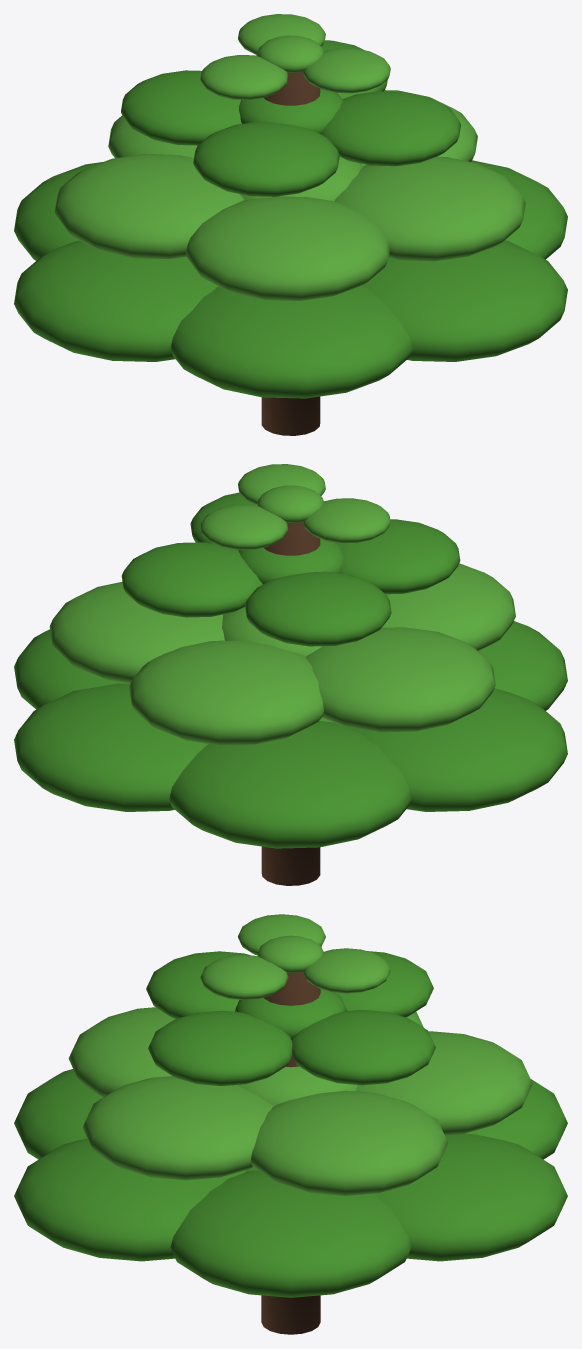
File: schoolyard_tropical_tree.glb
3 renders of one model, top to bottom at view 1: azimuth 30°, elevation 25°; view 2: azimuth 150°, elevation 25°; view 3: azimuth 270°, elevation 25°, orthographic.
Visible parts, largest first — view 1: Vietnamese_Schoolyard_Tropical_Almond_Tree; view 2: Vietnamese_Schoolyard_Tropical_Almond_Tree; view 3: Vietnamese_Schoolyard_Tropical_Almond_Tree.
Part boxes in pixels (x1=…): Vietnamese_Schoolyard_Tropical_Almond_Tree: x1=14, y1=14, x2=567, y2=435; Vietnamese_Schoolyard_Tropical_Almond_Tree: x1=14, y1=464, x2=567, y2=885; Vietnamese_Schoolyard_Tropical_Almond_Tree: x1=14, y1=914, x2=567, y2=1334.
Bounding box in the file's own units: 7.7 × 5.38 × 7.1.
